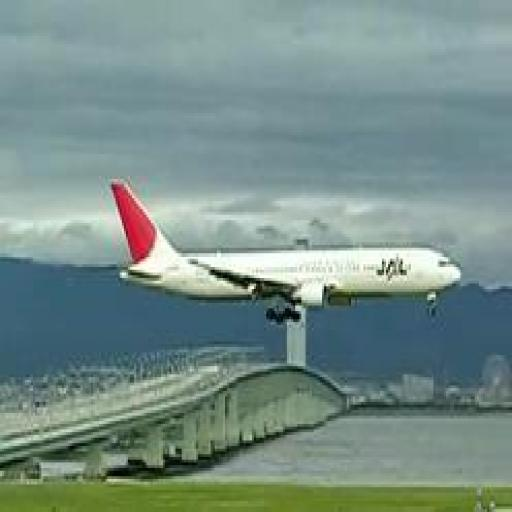aircraft: (109, 175, 464, 324)
